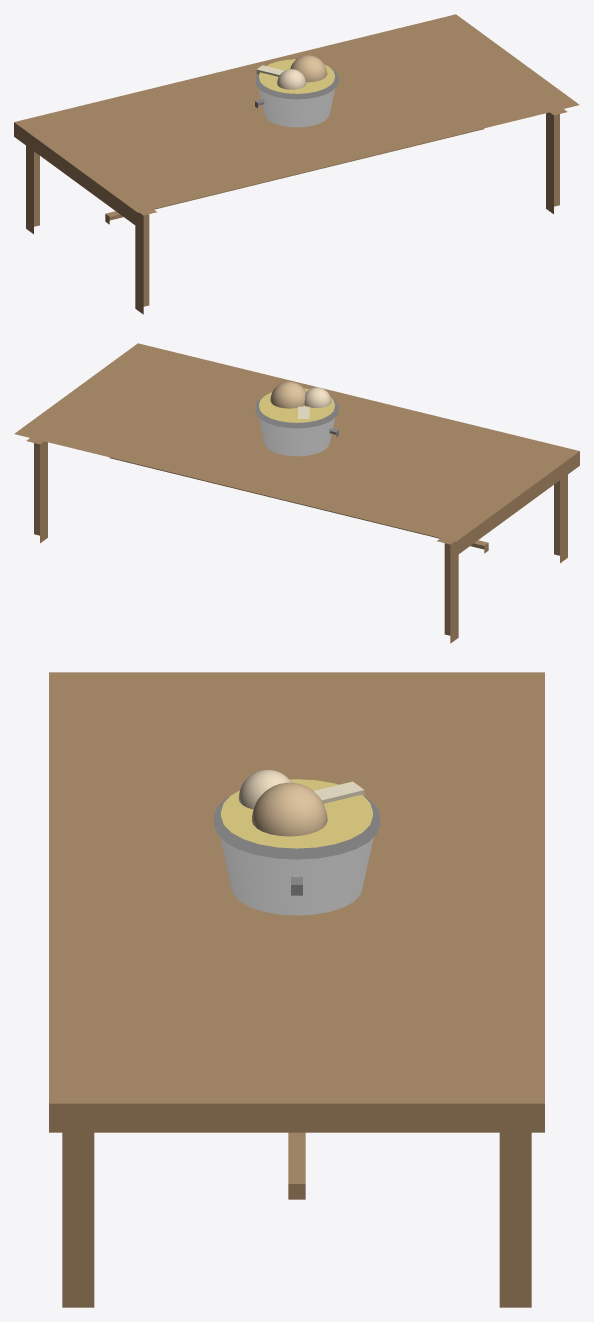
File: sancocho_mesa.glb
The picture shows the model from 3 angles, top to bottom: view 1: azimuth 30°, elevation 25°; view 2: azimuth 150°, elevation 25°; view 3: azimuth 270°, elevation 25°; orthographic projection. The views are drawn at different scales.
Visible parts, largest first — view 1: tablero, pata (×3), olla, caldo, pollo, refuerzo, borde, papa; view 2: tablero, pata (×3), olla, caldo, pollo, borde, refuerzo, papa; view 3: tablero, pata (×2), olla, caldo, pollo, borde, refuerzo, papa.
Boxes of the visible parts, x1,y1,x2,y2 form: tablero: (14,14,579,226); pata (×3): (26,109,567,314); olla: (258,88,335,127); caldo: (259,59,334,93); pollo: (290,55,327,82); refuerzo: (105,128,484,224); borde: (255,68,338,99); papa: (277,69,306,89); tablero: (14,343,579,555); pata (×3): (26,438,567,643); olla: (258,417,335,456); caldo: (259,388,334,422); pollo: (270,381,305,408); borde: (255,397,338,428); refuerzo: (109,457,488,553); papa: (304,387,331,407); tablero: (49,672,544,1132); pata (×2): (62,1132,531,1307); olla: (220,837,373,915); caldo: (221,779,372,848); pollo: (251,782,327,836); borde: (214,796,379,859); refuerzo: (288,1132,305,1199); papa: (238,769,291,809).
Size of the model in its own units: 7 by 2.45 by 3.4.
